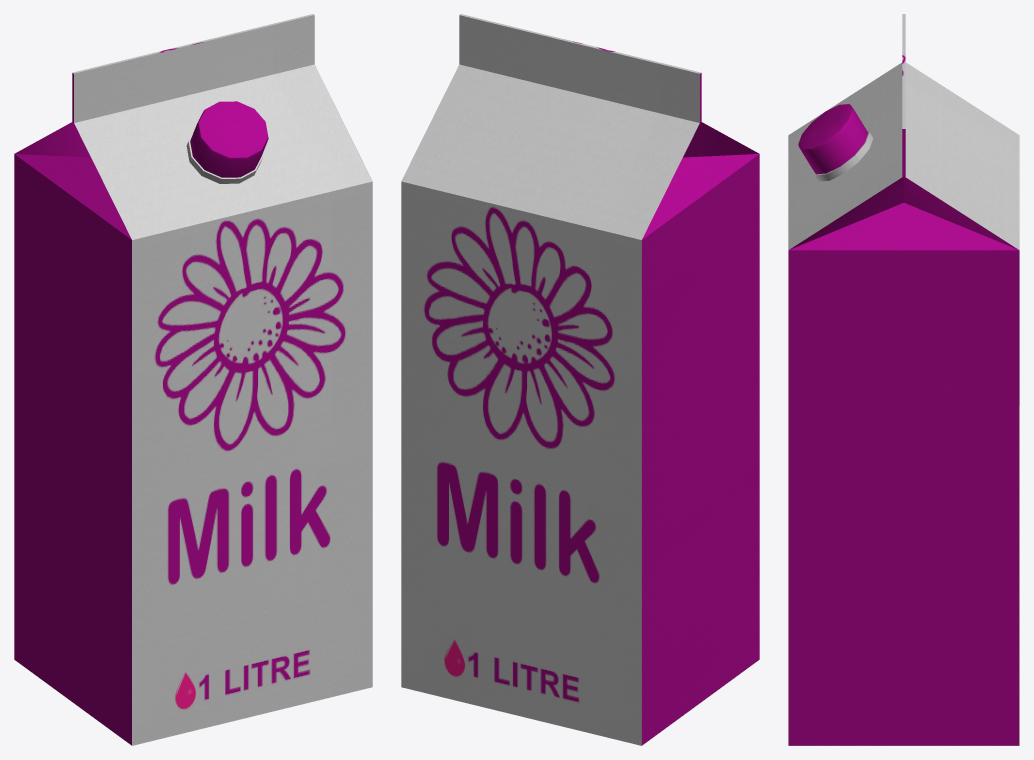
The model's file is milk_box_2.FBX.
3 views of the same model, side by side, from view 1: azimuth 30°, elevation 25°; view 2: azimuth 150°, elevation 25°; view 3: azimuth 270°, elevation 25° (orthographic). The views are drawn at different scales.
Visible parts, largest first — view 1: milk_box_2; view 2: milk_box_2; view 3: milk_box_2.
Part boxes in pixels (left/top/right/bottom): milk_box_2: left=14, top=14, right=372, bottom=745; milk_box_2: left=401, top=14, right=759, bottom=745; milk_box_2: left=788, top=14, right=1019, bottom=745.
Bounding box in the file's own units: 3.15 × 2.67 × 7.87.
